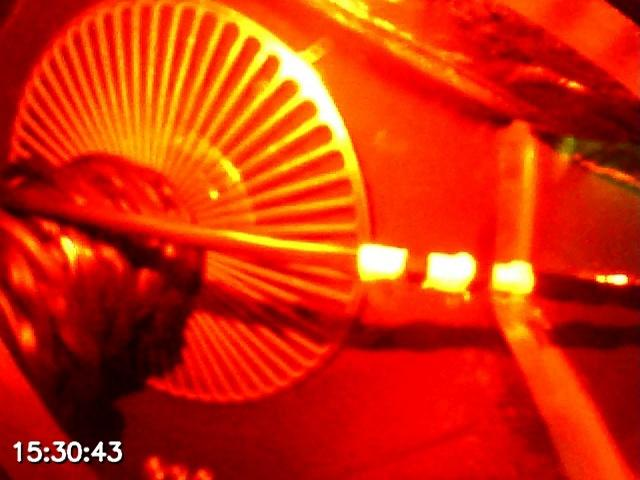white-dots: (354, 241, 538, 298)
